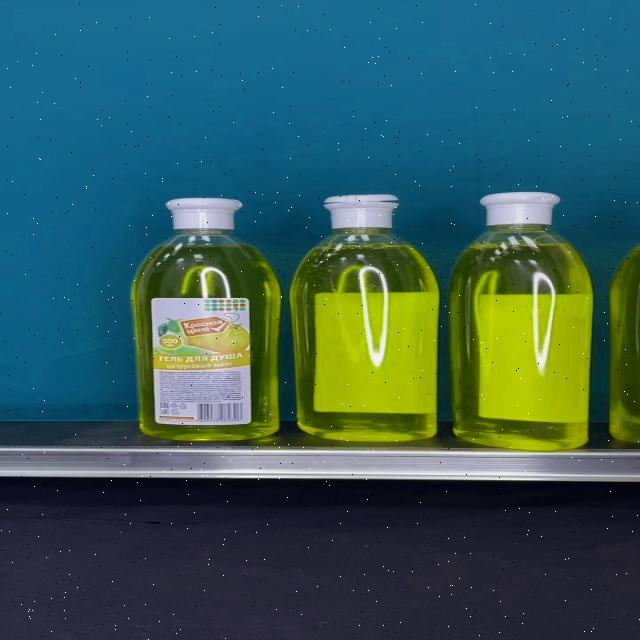Bottle: (290, 195, 440, 442), (449, 193, 592, 450), (131, 198, 282, 440)
Cap: (478, 193, 560, 225), (165, 198, 242, 232), (322, 195, 398, 229)
